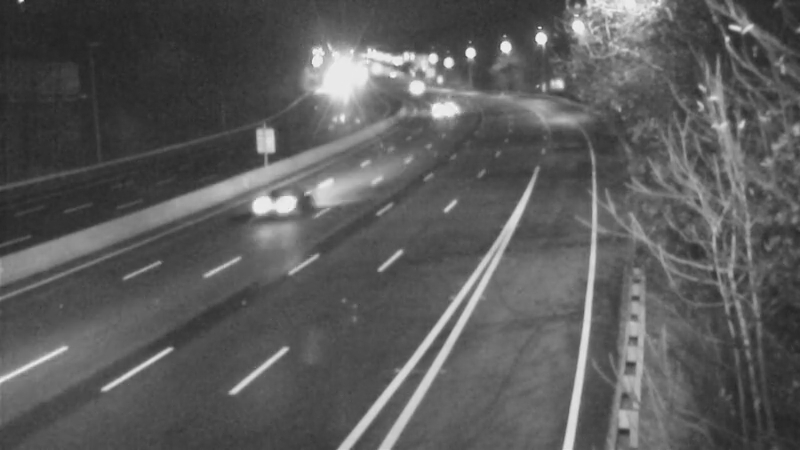vehicle: (232, 169, 312, 249), (389, 61, 439, 111), (424, 81, 474, 131)
